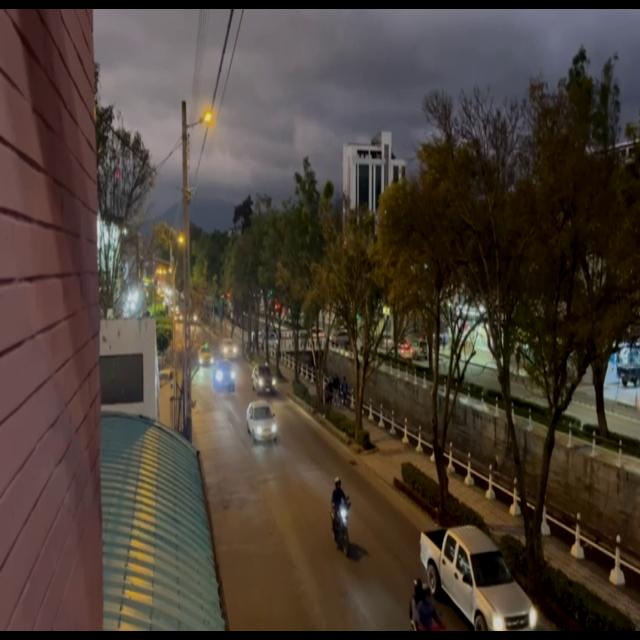CMT: (422, 527, 537, 635)
MOTORCYCLE: (332, 499, 352, 561)
SED: (248, 402, 277, 442), (256, 364, 276, 393)
